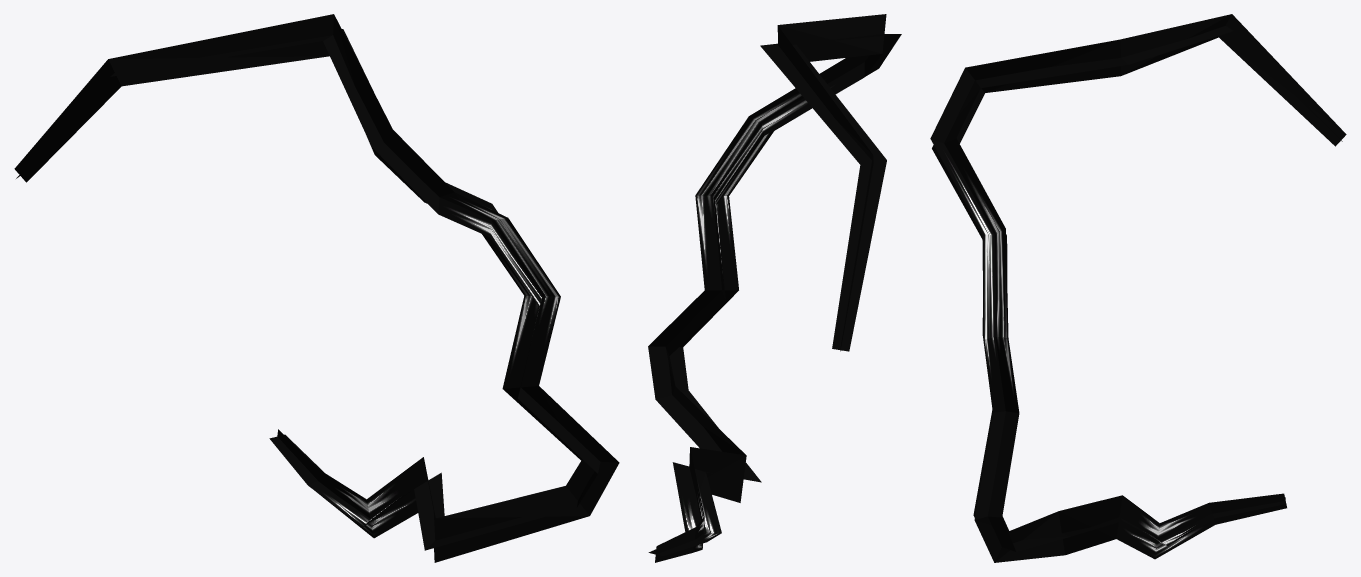
Rendered from LightningB01.fbx.
3 views of the same model, side by side, from view 1: azimuth 30°, elevation 25°; view 2: azimuth 150°, elevation 25°; view 3: azimuth 270°, elevation 25° (orthographic). The views are drawn at different scales.
Visible parts, largest first — view 1: SM_EFF_Lightning_B_01.mo; view 2: SM_EFF_Lightning_B_01.mo; view 3: SM_EFF_Lightning_B_01.mo.
Boxes of the visible parts, x1,y1,x2,y2 form: SM_EFF_Lightning_B_01.mo: (14, 14, 619, 562); SM_EFF_Lightning_B_01.mo: (648, 14, 901, 562); SM_EFF_Lightning_B_01.mo: (930, 14, 1346, 562).
Size of the model in its own units: 188 by 248 by 189.
